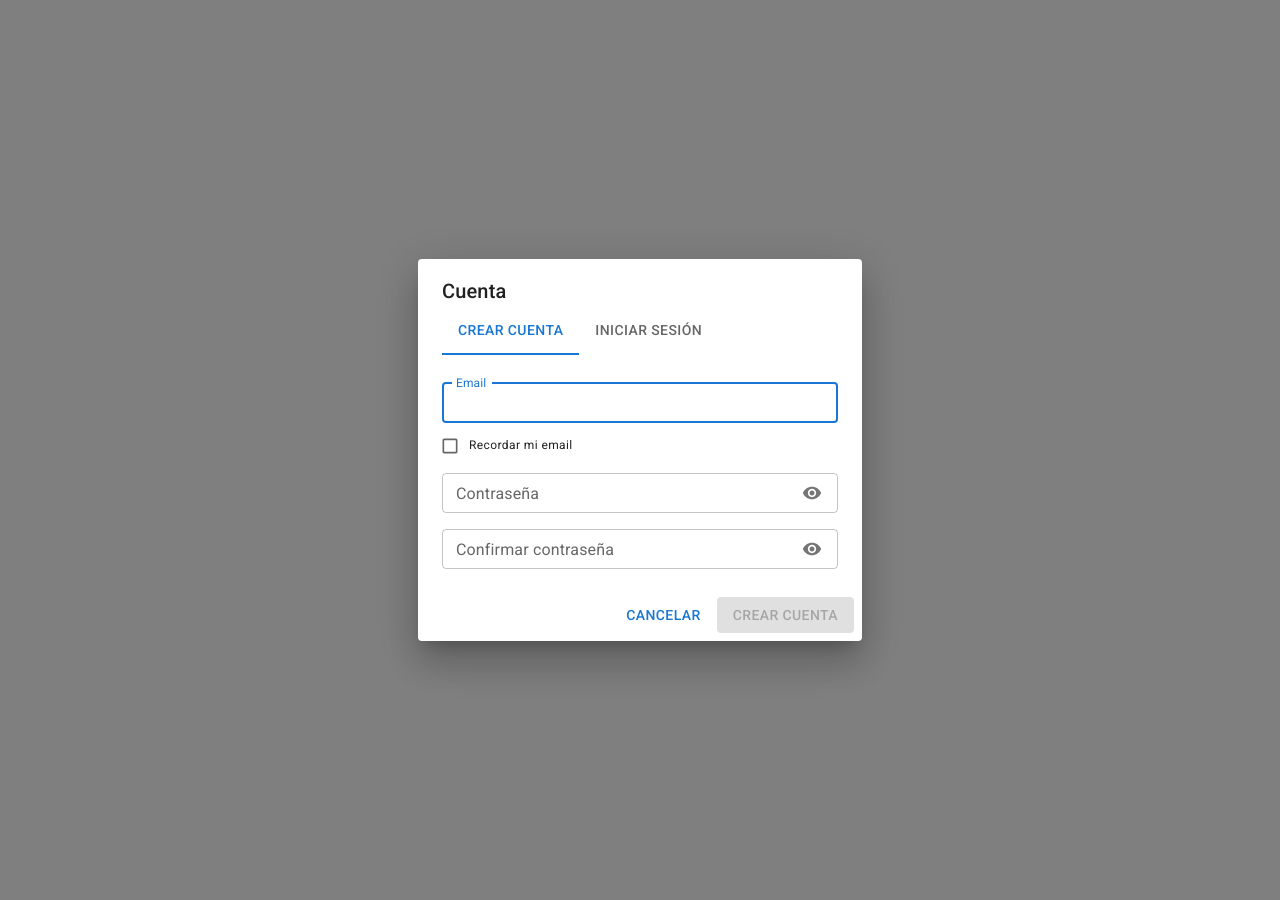
Scenario: EmailPasswordDialog › preserves email on tab change
The width and height of the screenshot is (1280, 900).
Type "test@example.com" into the field labelled "Email" at (640, 403), box [442, 383, 838, 423]
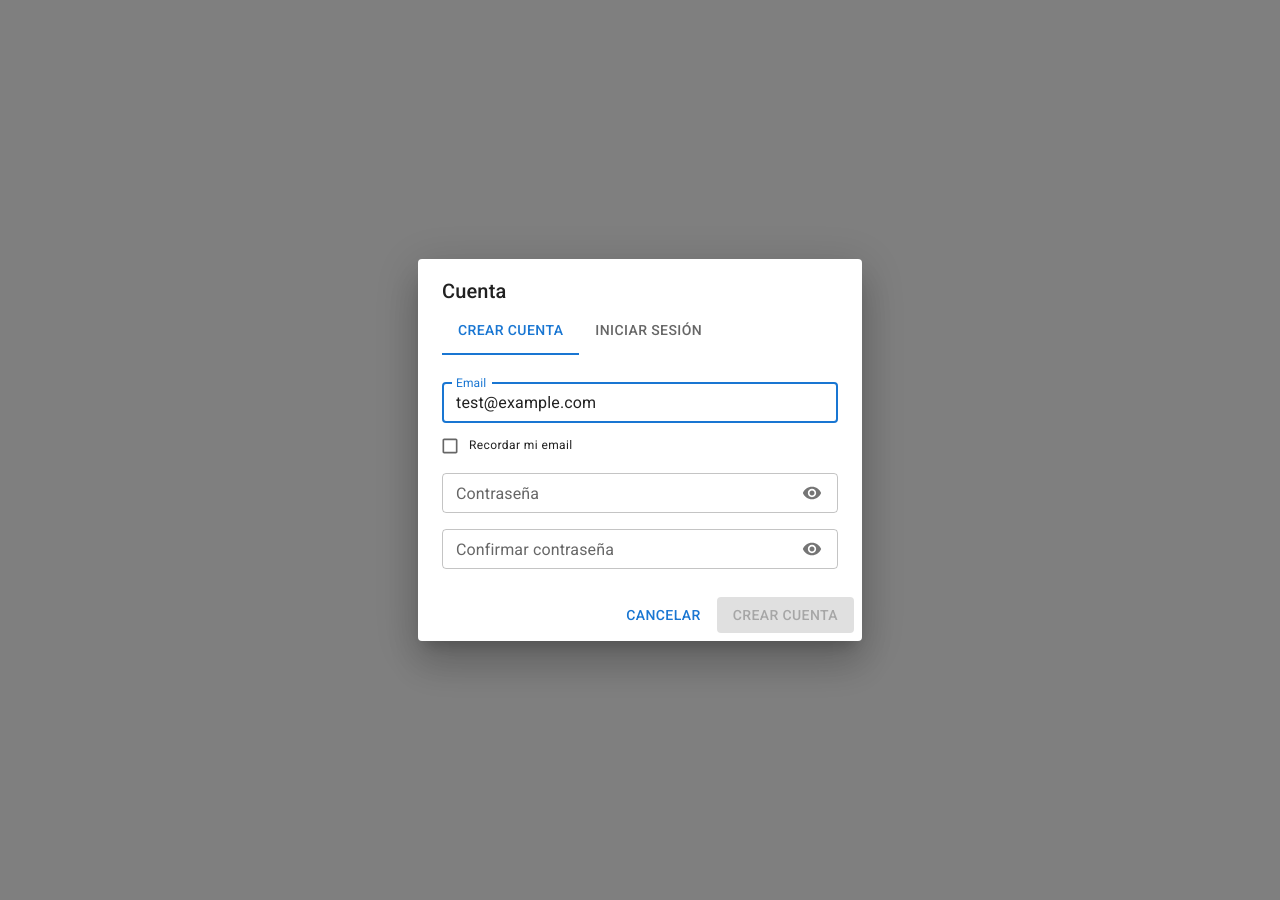
Click the tab "Iniciar sesión" at (649, 331), box [579, 307, 718, 355]
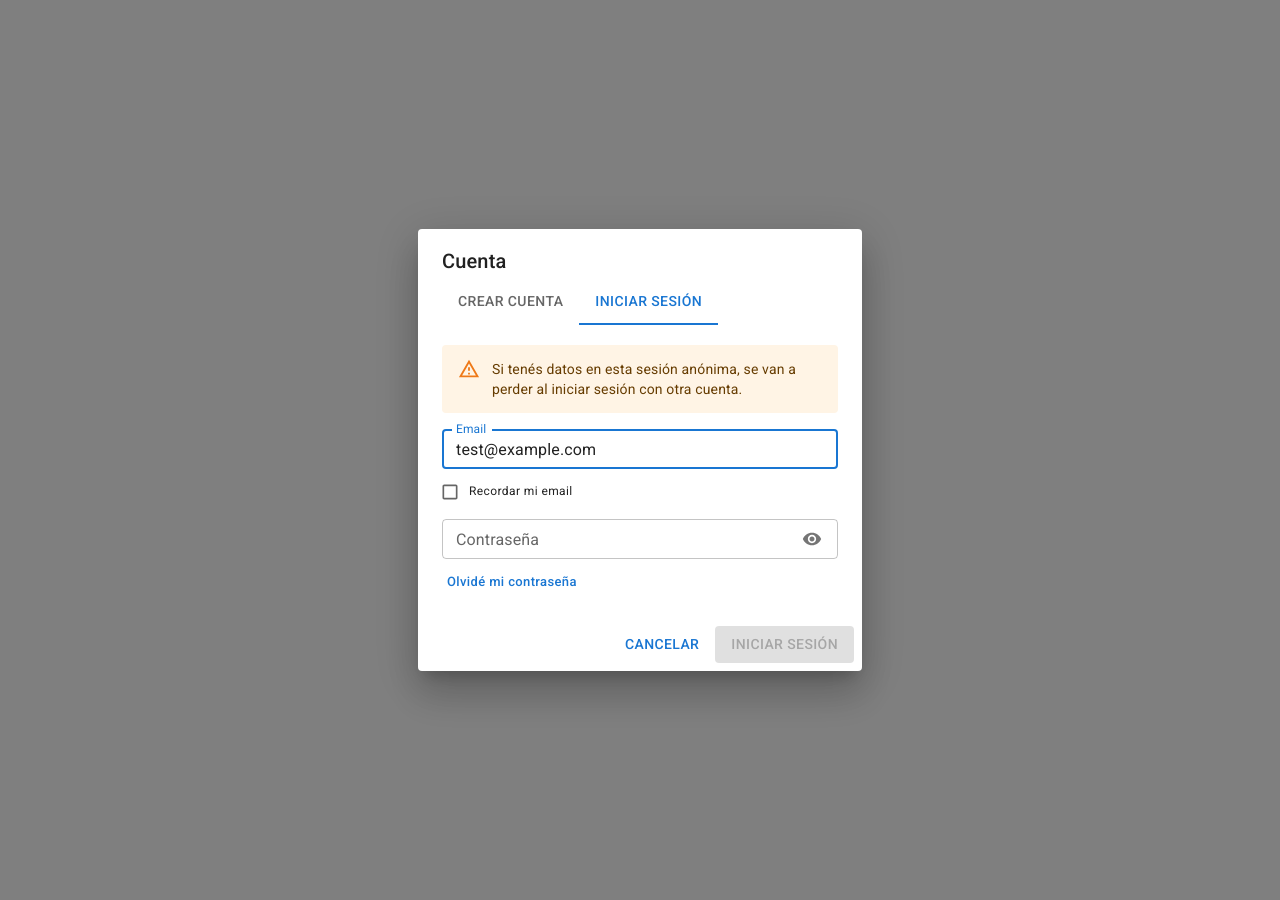
expect the field labelled "Email" holds "test@example.com": met, box [442, 429, 838, 469]
